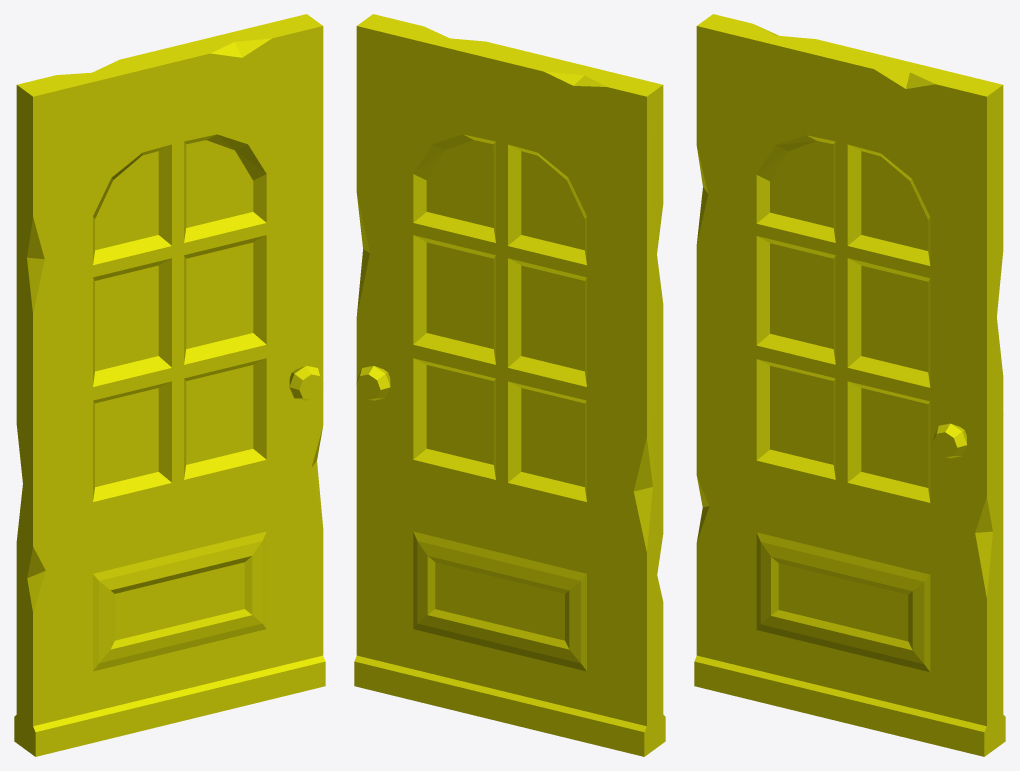
Rendered from SM_Bld_Door_01.glb.
3 renders of one model, left to right at view 1: azimuth 30°, elevation 25°; view 2: azimuth 150°, elevation 25°; view 3: azimuth 330°, elevation 25°, orthographic.
Visible parts, largest first — view 1: SM_Bld_Door_01; view 2: SM_Bld_Door_01; view 3: SM_Bld_Door_01.
Boxes of the visible parts, box(x1,y1,x2,y2) form: SM_Bld_Door_01: box(14, 14, 325, 756); SM_Bld_Door_01: box(354, 14, 665, 756); SM_Bld_Door_01: box(694, 14, 1005, 756).
Bounding box in the file's own units: 1.03 × 2.22 × 0.2831.
Materials: 1 (1 with a texture image).
